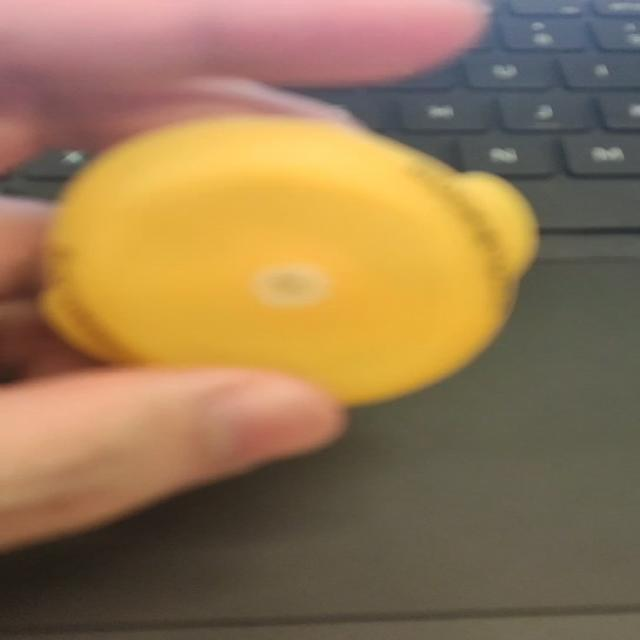rubber-duck: (42, 116, 535, 402)
